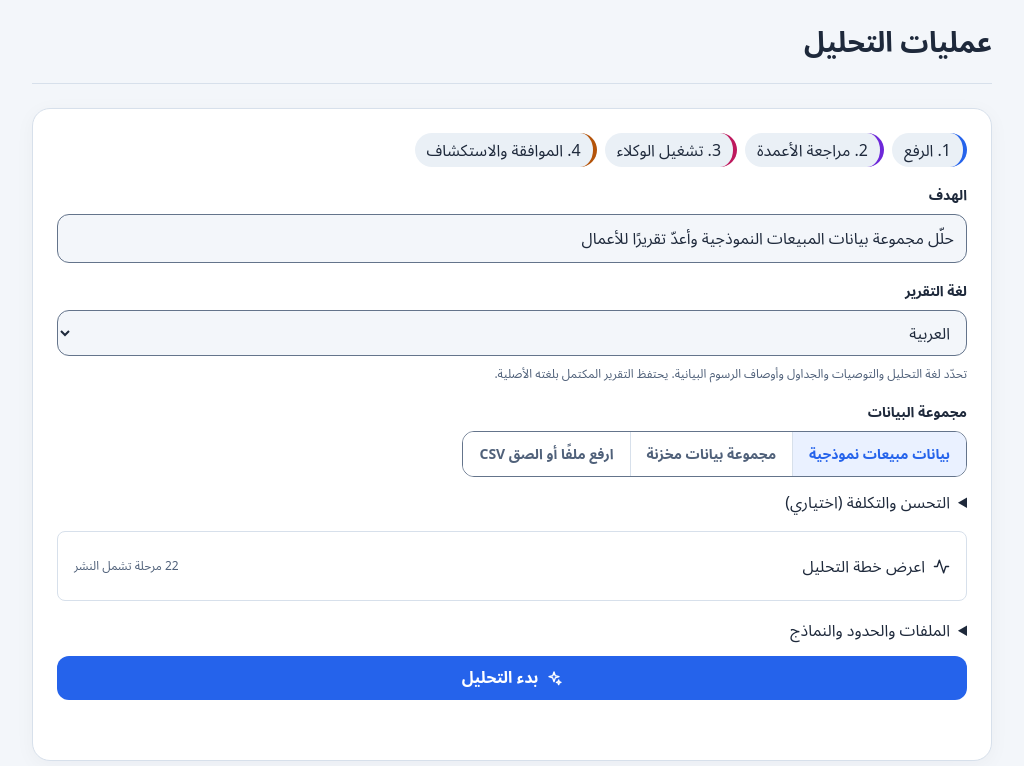
Test case: recoverable analysis navigation › distinguishes a failed dataset read from an empty list in ar
Click the button "مجموعة بيانات مخزنة". click: (712, 454)
box: [630, 432, 793, 476]
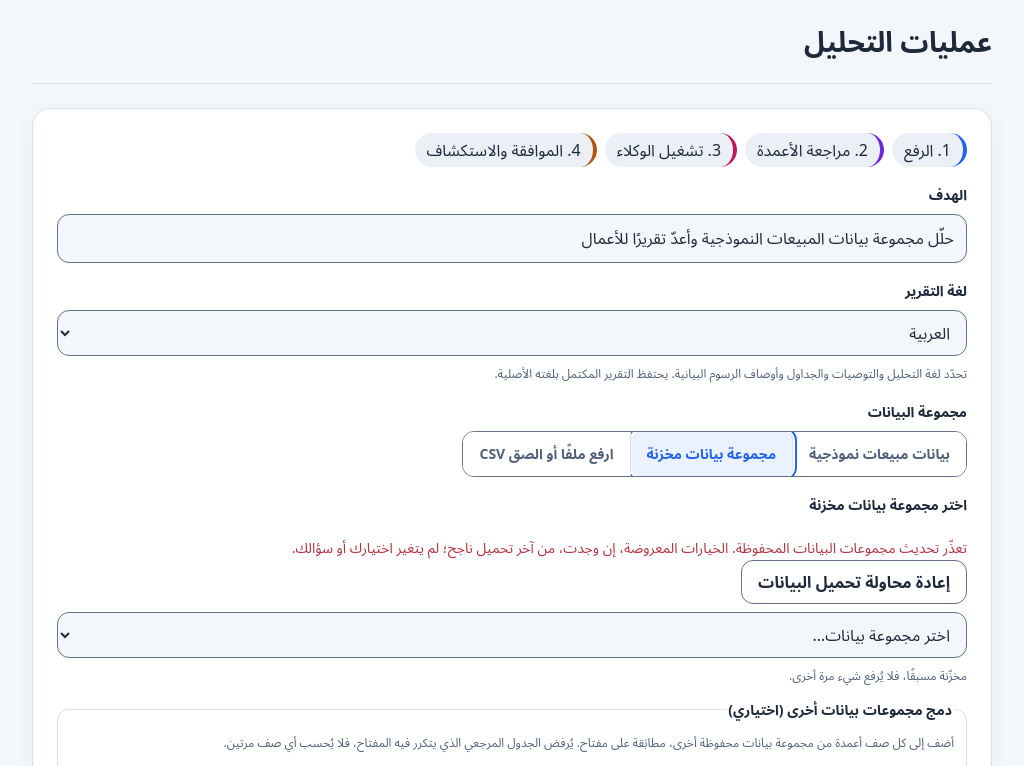
Now the text "تعذّر تحديث مجموعات البيانات المحفوظة" is shown, box [292, 538, 967, 557]
Click the button "إعادة محاولة تحميل البيانات". click: (854, 582)
box: [741, 560, 967, 604]
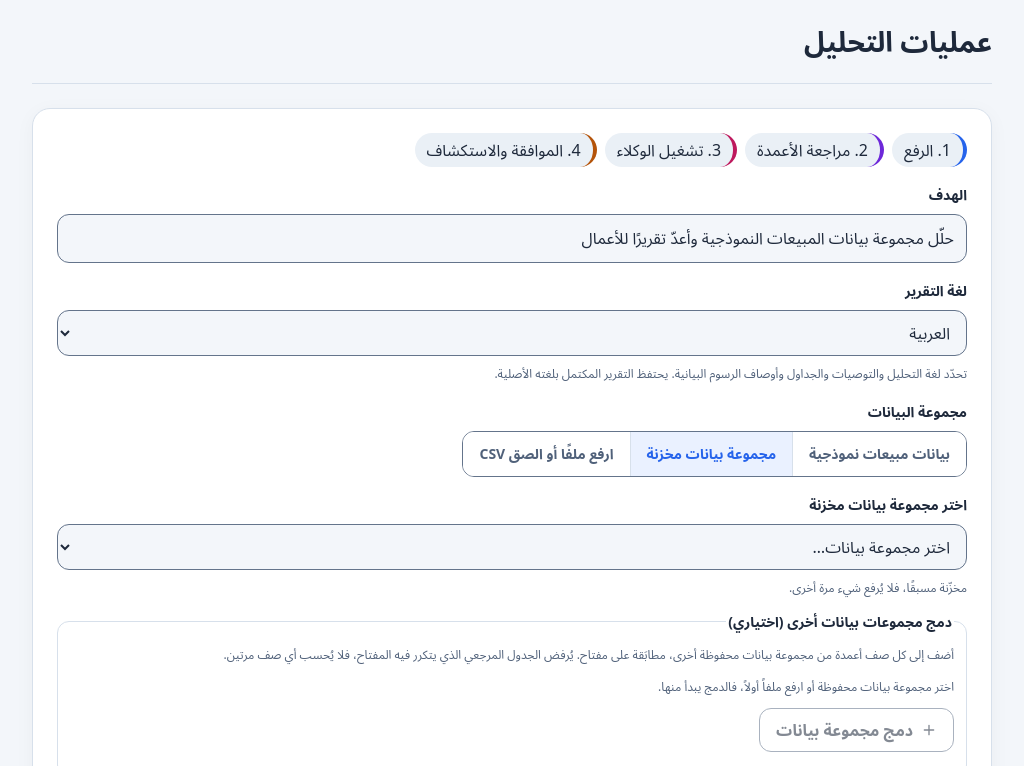
Now the text "تعذّر تحديث مجموعات البيانات المحفوظة" is gone
